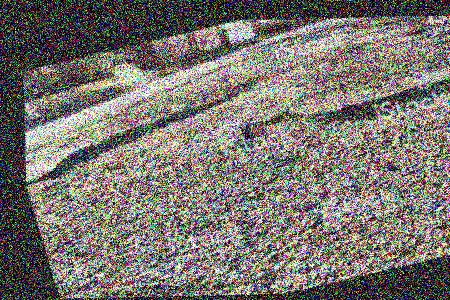pothole: (24, 91, 251, 197), (229, 63, 450, 162)
